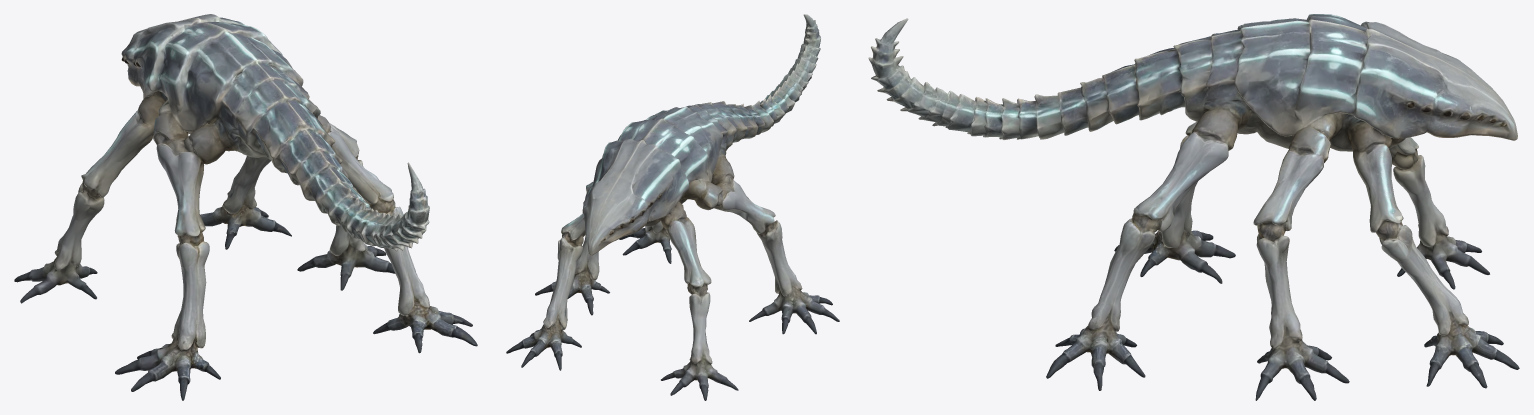
File: alien-crawler.glb
3 renders of one model, left to right at view 1: azimuth 30°, elevation 25°; view 2: azimuth 150°, elevation 25°; view 3: azimuth 270°, elevation 25°, orthographic. The views are drawn at different scales.
Visible parts, largest first — view 1: tripo_node_aaf94c36-0267-40d8-ae73-0f5ceec84bd0; view 2: tripo_node_aaf94c36-0267-40d8-ae73-0f5ceec84bd0; view 3: tripo_node_aaf94c36-0267-40d8-ae73-0f5ceec84bd0.
Boxes of the visible parts, <box> form: tripo_node_aaf94c36-0267-40d8-ae73-0f5ceec84bd0: <box>14,14,477,400</box>; tripo_node_aaf94c36-0267-40d8-ae73-0f5ceec84bd0: <box>506,14,839,400</box>; tripo_node_aaf94c36-0267-40d8-ae73-0f5ceec84bd0: <box>868,14,1519,400</box>.
Bounding box in the file's own units: 0.6343 × 0.5194 × 0.9998.
1 material, 1 textured.
